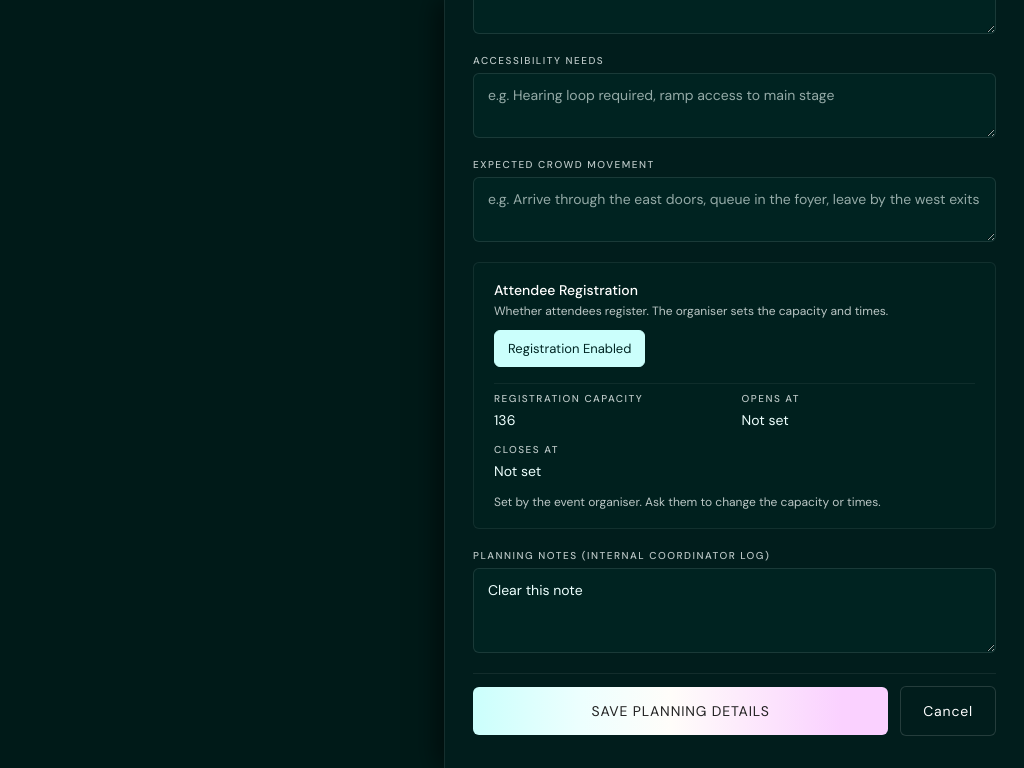
EventPlanningDrawer Component › [BOUNDARY] [SG2-39:AC1] distinguishes loaded empty values from omitted fields while retaining explicit clearing
(page scrolled)
Expected: the text "Not set" is shown 2 times, left=742, top=411, right=789, bottom=429; left=494, top=462, right=541, bottom=480
Clear the text box labelled "Planning Notes (Internal Coordinator Log)". click: point(734, 610)
box: left=473, top=568, right=996, bottom=653
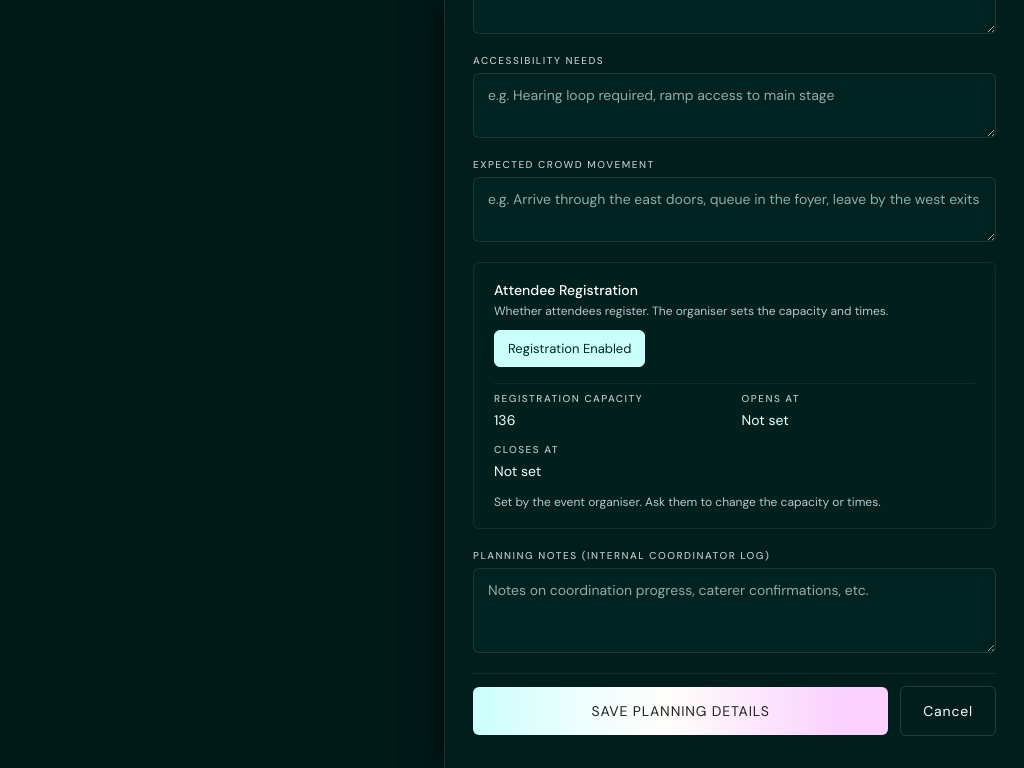
Click the button "Save Planning Details". click: point(681, 711)
box: left=473, top=687, right=888, bottom=735
(page scrolled)
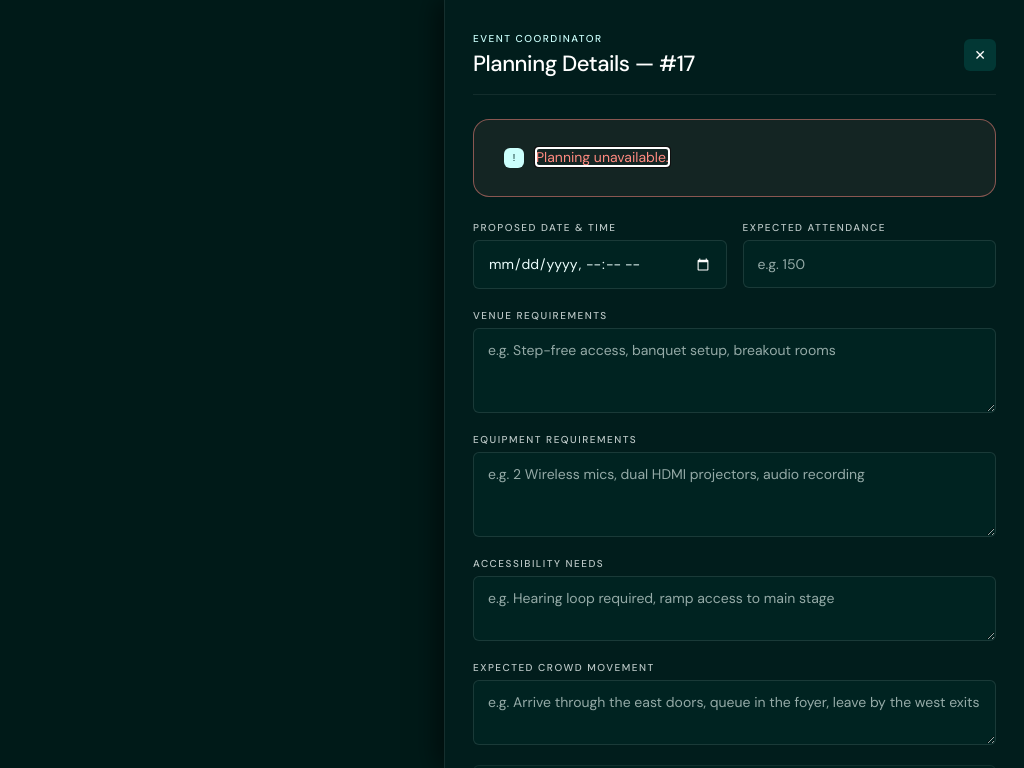
Expected: the text "Planning unavailable." is shown, left=536, top=148, right=669, bottom=166
